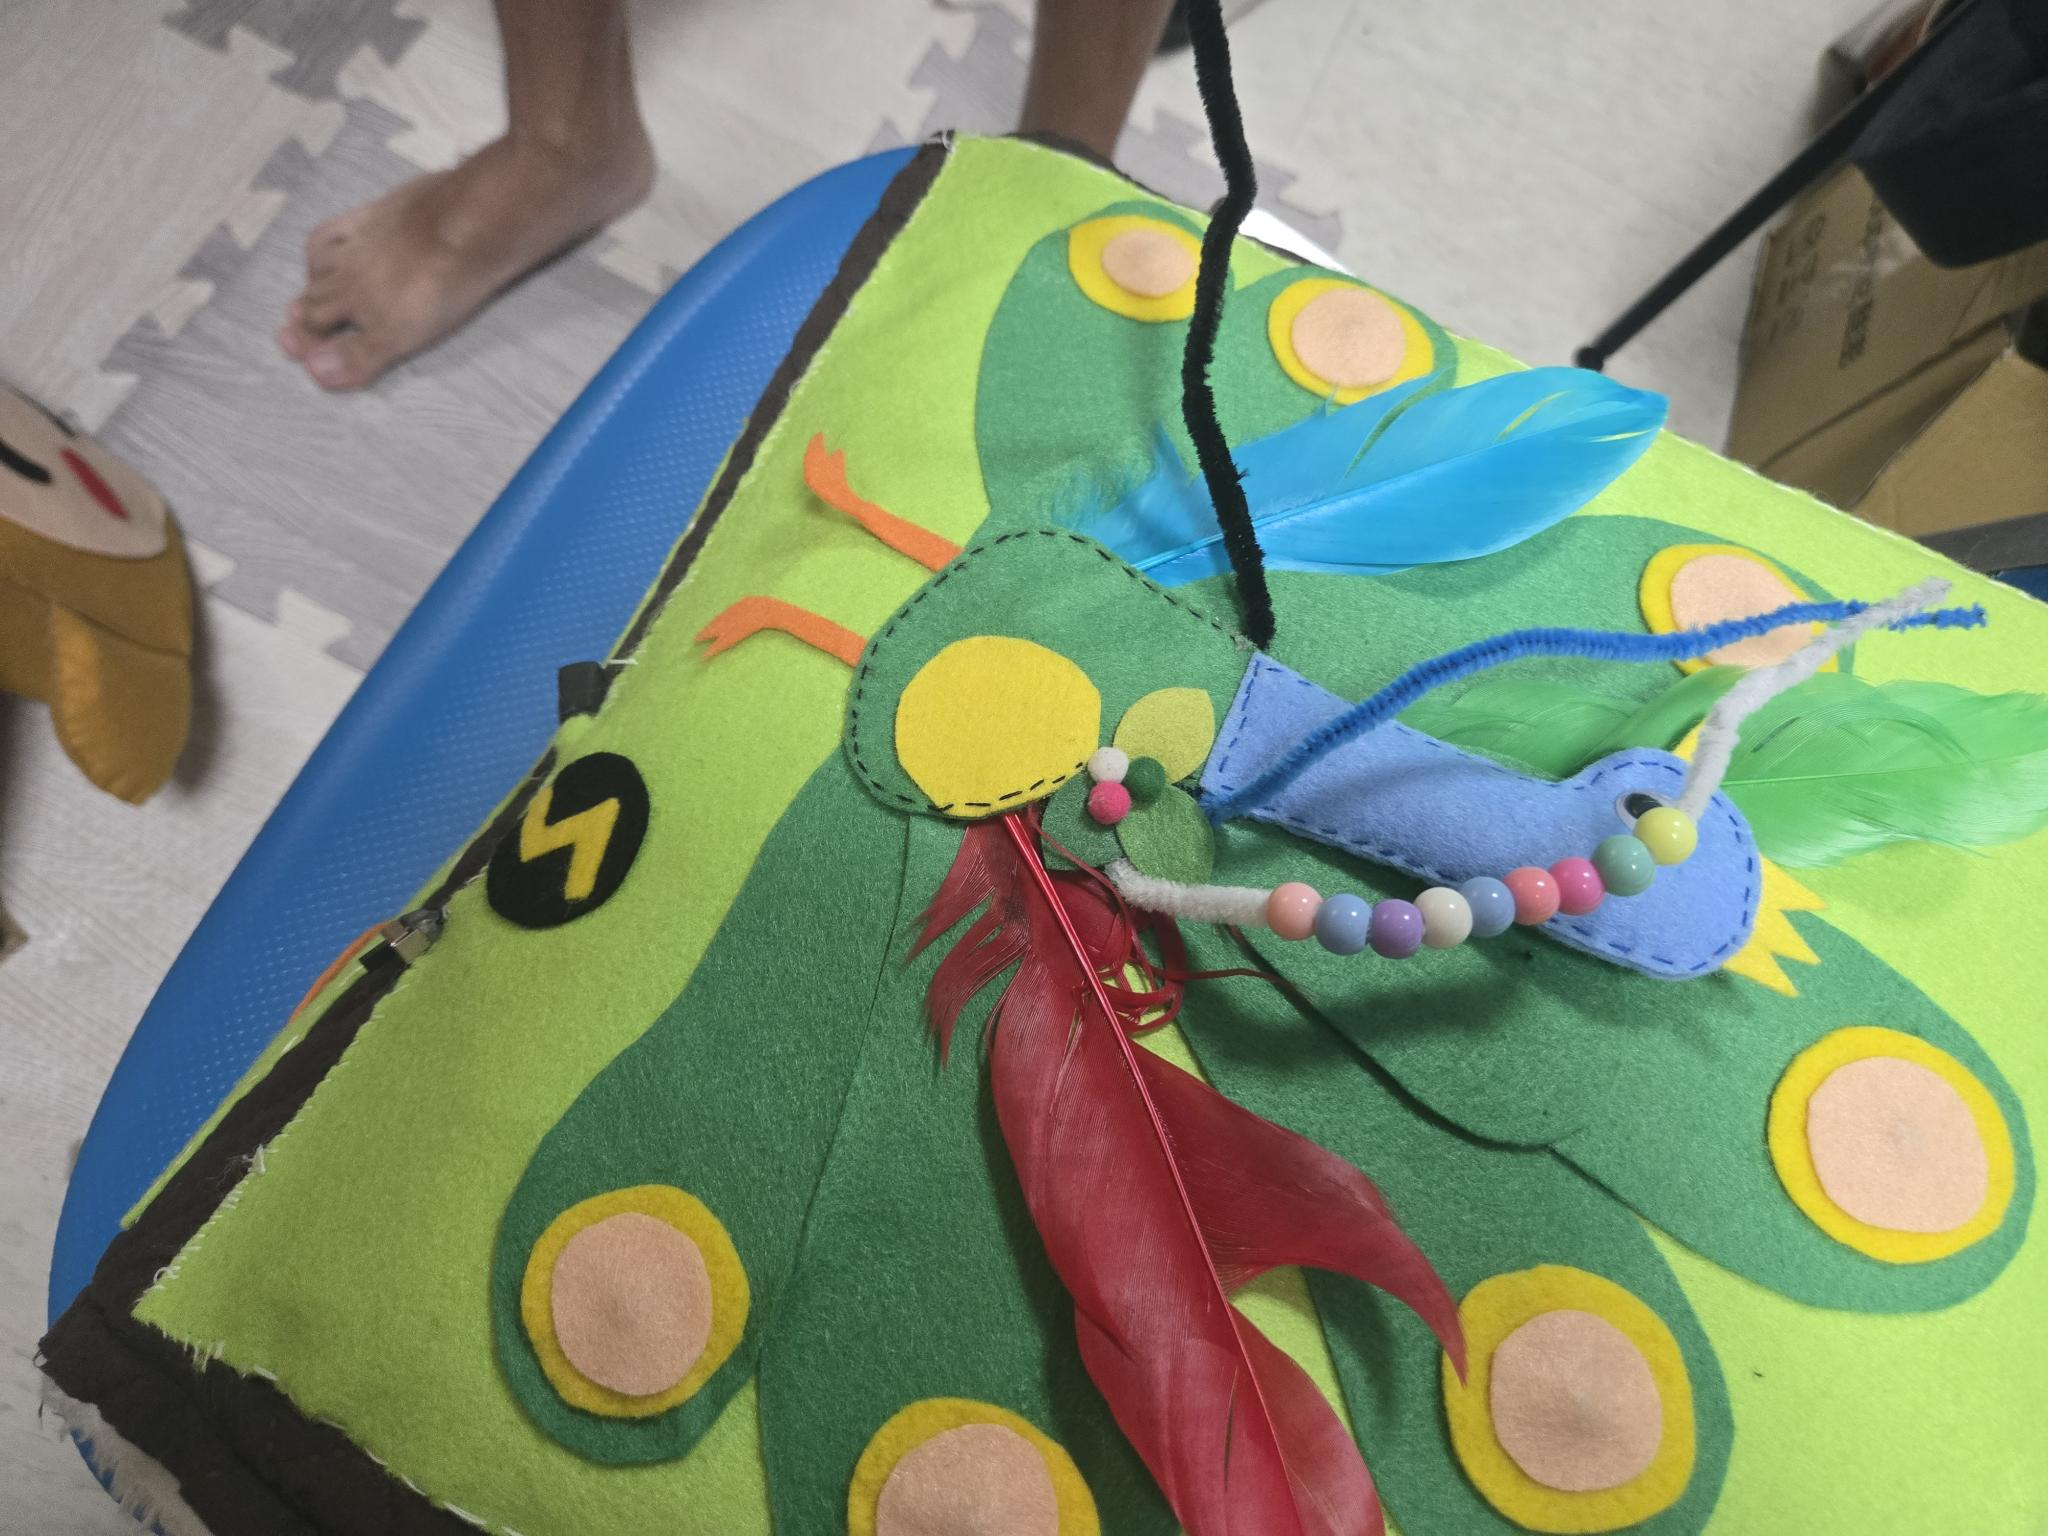bead: (1316, 889, 1363, 957), (1413, 884, 1463, 947), (1464, 868, 1509, 937), (1372, 892, 1417, 957), (1643, 795, 1690, 857), (1271, 873, 1309, 941), (1598, 833, 1646, 886), (1551, 854, 1595, 912), (1516, 852, 1555, 916)
